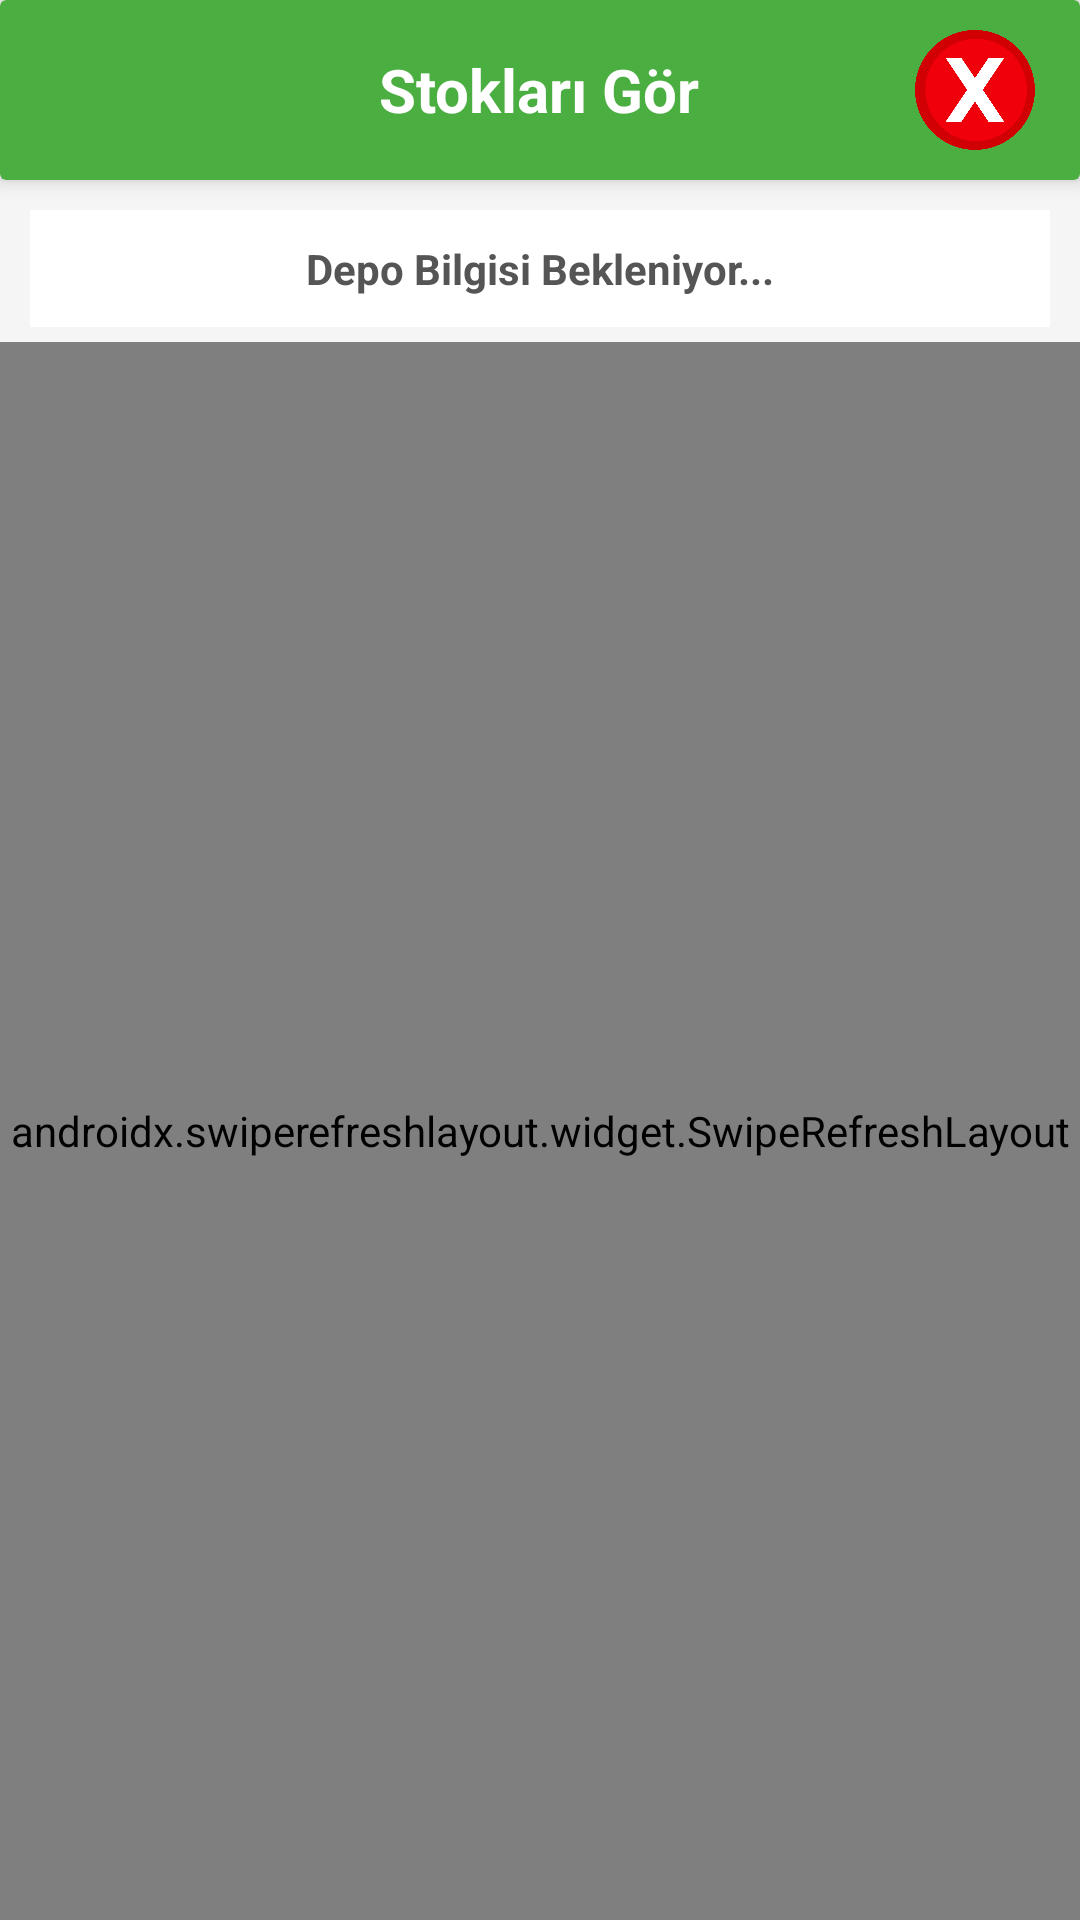

Screen size 1080*1920. Icon name, then its box in pixels as [x1=x1, y1=y1, x2=x2, y2=y2]:
close: [x1=915, y1=30, x2=1035, y2=150]
